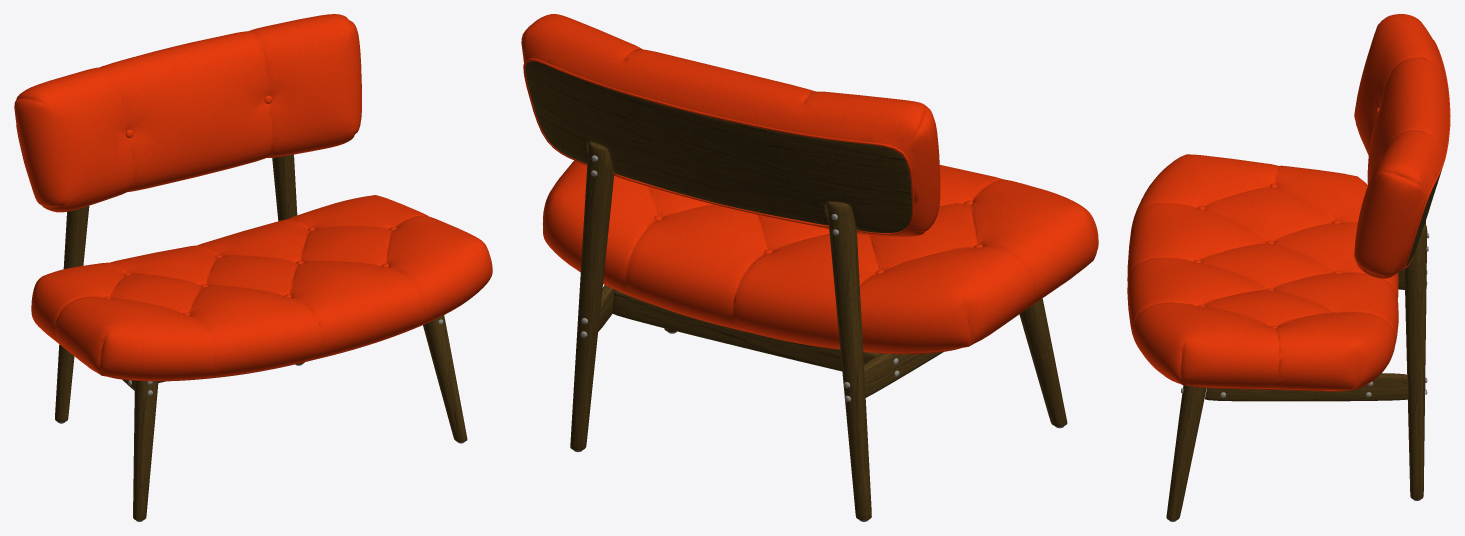
File: chair.glb
3 renders of one model, left to right at view 1: azimuth 30°, elevation 25°; view 2: azimuth 150°, elevation 25°; view 3: azimuth 270°, elevation 25°, orthographic. The views are drawn at different scales.
Visible parts, largest first — view 1: SheenChair_fabric, SheenChair_wood; view 2: SheenChair_fabric, SheenChair_wood; view 3: SheenChair_fabric, SheenChair_wood.
Part boxes in pixels (bbox=[...]): SheenChair_fabric: bbox=[14, 14, 492, 381]; SheenChair_wood: bbox=[55, 154, 467, 520]; SheenChair_fabric: bbox=[521, 14, 1098, 354]; SheenChair_wood: bbox=[525, 61, 1067, 520]; SheenChair_fabric: bbox=[1127, 14, 1450, 391]; SheenChair_wood: bbox=[1166, 170, 1441, 520].
Size of the model in its own units: 0.8266 by 0.6862 by 0.5702.
Materials: 4 (3 with a texture image).
